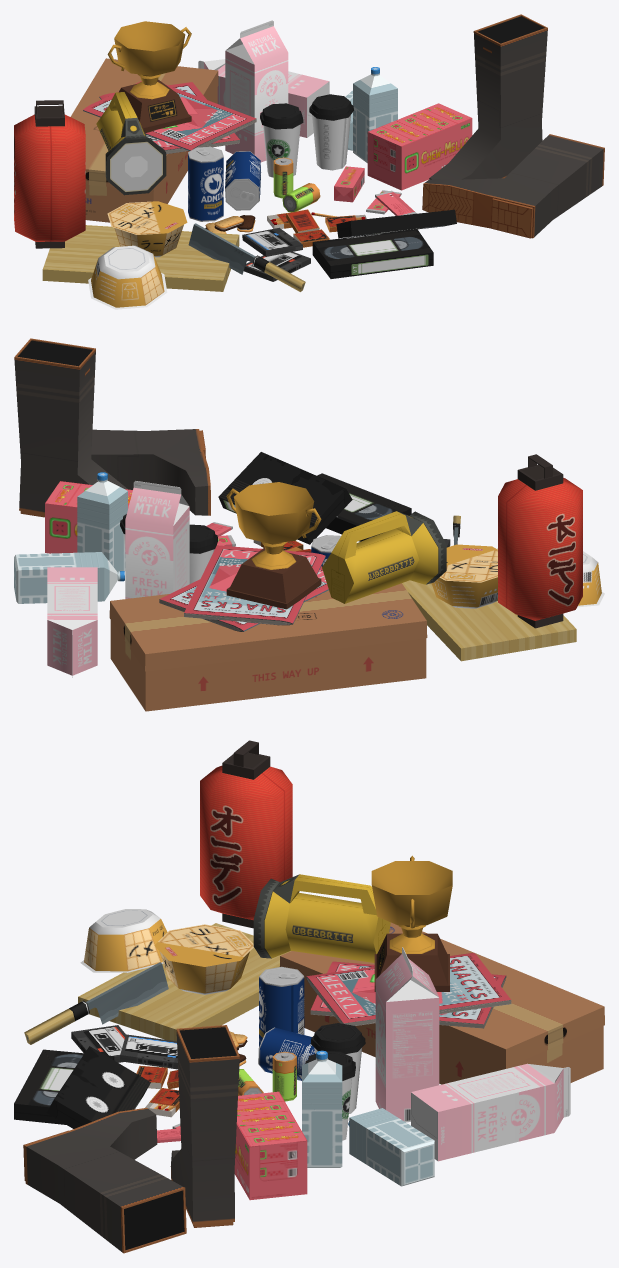
File: Simple_Fun_Props.glb
3 views of the same model, one above another, from view 1: azimuth 30°, elevation 25°; view 2: azimuth 150°, elevation 25°; view 3: azimuth 270°, elevation 25° (orthographic). The views are drawn at different scales.
Visible parts, largest first — view 1: unnamed (×18); view 2: unnamed (×13); view 3: unnamed (×17).
Boxes of the visible parts, box(x1,y1,x2,y2) form: unnamed (×18): box(14, 14, 604, 309); unnamed (×13): box(14, 338, 604, 711); unnamed (×17): box(14, 740, 604, 1253).
Bounding box in the file's own units: 1.07 × 0.3221 × 0.8367.
Materials: 18 (18 with a texture image).
